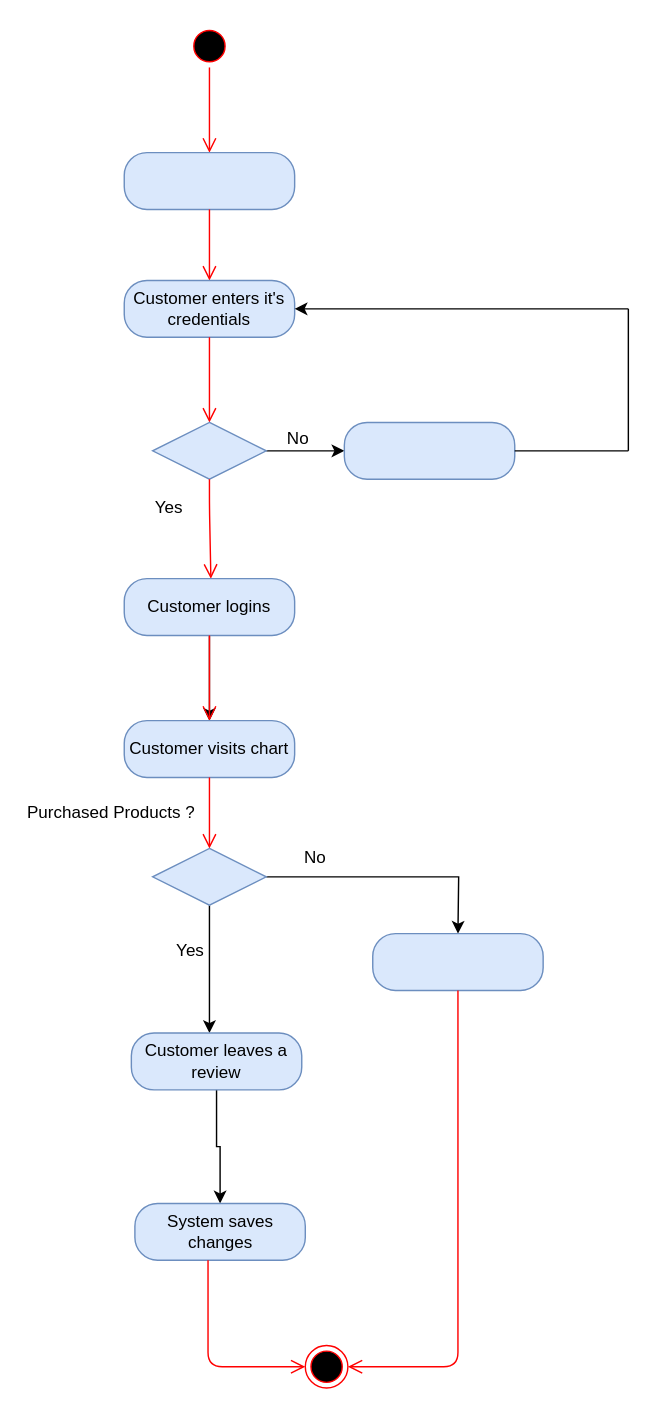
Some shapes in this 665 by 1413 pixel diagram are drawn without their labels. Here are the shapes that lost their labels. From the top down, the box of each, then its label:
(123, 151, 295, 209): Customer visits applicatiton
(343, 421, 515, 479): Message: Invalid data input, retry again
(371, 932, 543, 990): Customer returns to the main page
